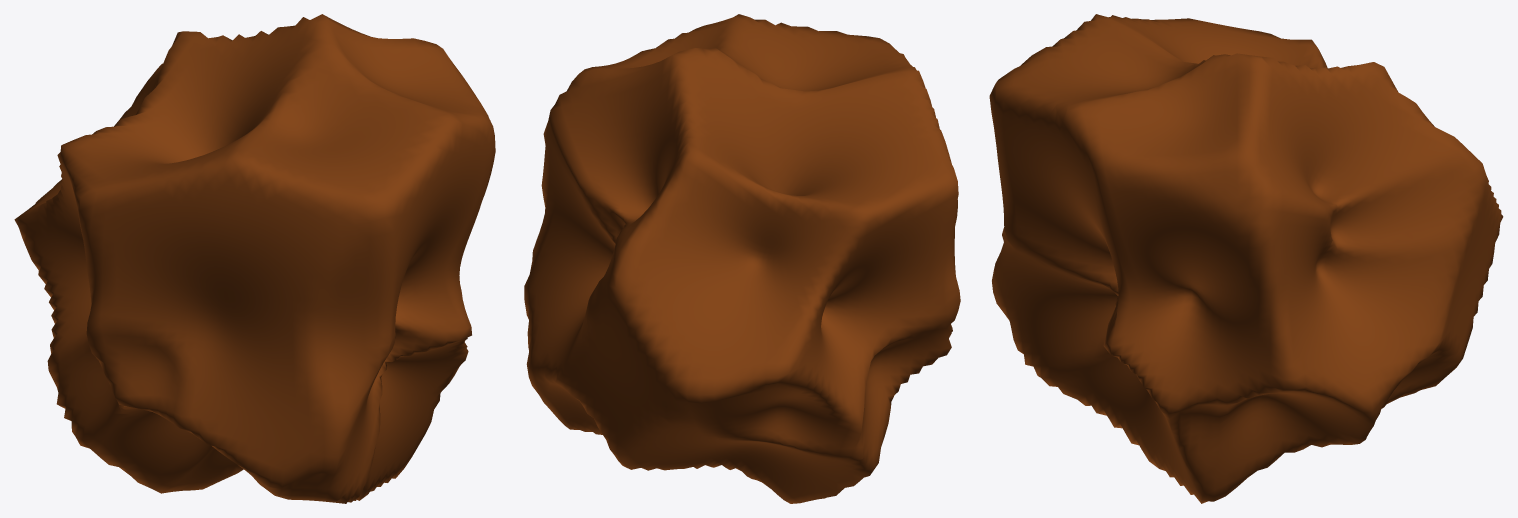
File: asteroid6.fbx
3 views of the same model, side by side, from view 1: azimuth 30°, elevation 25°; view 2: azimuth 150°, elevation 25°; view 3: azimuth 270°, elevation 25° (orthographic). The views are drawn at different scales.
Visible parts, largest first — view 1: Cube; view 2: Cube; view 3: Cube.
Boxes of the visible parts, x1,y1,x2,y2 form: Cube: (14,14,495,503); Cube: (524,14,960,503); Cube: (989,14,1503,503).
Size of the model in its own units: 175 by 181 by 198.
